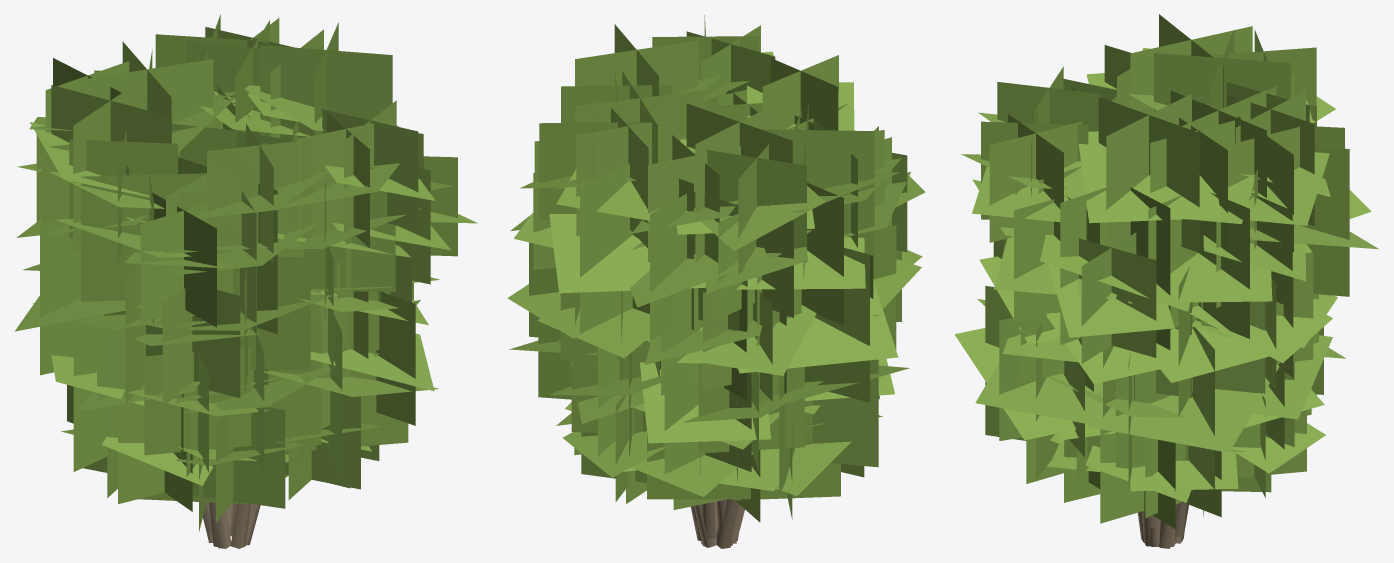
Rendered from noisetier_5_f2_loin.glb.
The picture shows the model from 3 angles, left to right: view 1: azimuth 30°, elevation 25°; view 2: azimuth 150°, elevation 25°; view 3: azimuth 270°, elevation 25°; orthographic projection. The views are drawn at different scales.
Parts seen in each view (by area): view 1: Noisetier_T5_f2_Leger_Loin; view 2: Noisetier_T5_f2_Leger_Loin; view 3: Noisetier_T5_f2_Leger_Loin.
Part boxes in pixels (bbox=[...]): Noisetier_T5_f2_Leger_Loin: bbox=[14, 14, 477, 548]; Noisetier_T5_f2_Leger_Loin: bbox=[507, 15, 925, 548]; Noisetier_T5_f2_Leger_Loin: bbox=[954, 14, 1378, 548].
Bounding box in the file's own units: 6.96 × 7.87 × 6.47.
